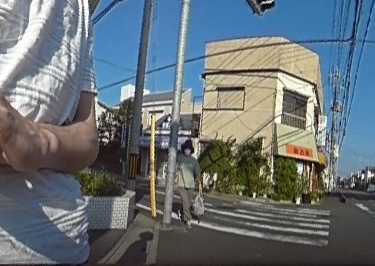person: (177, 137, 203, 227)
